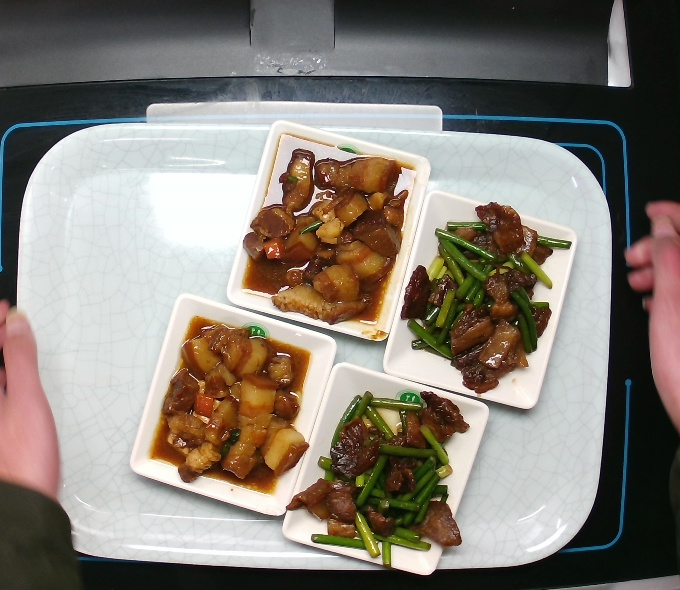wcq-HongShaoRou: (238, 139, 413, 329), (158, 317, 313, 489)
wcq-SuanMiaoChaoRou: (284, 384, 479, 569), (395, 198, 573, 397)
